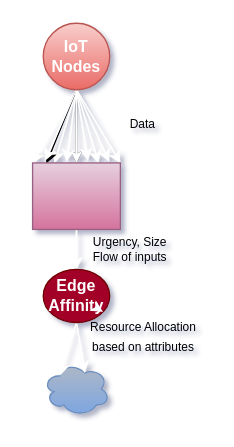
Some shapes in this 234 by 447 pixel diagram are drawn without their labels. The shapes that lost their labels are listed below. From the top down, each one's centre as x and y in pixels, then its label:
the point at 75,195: Fog Computing
the point at 76,388: Cloud
